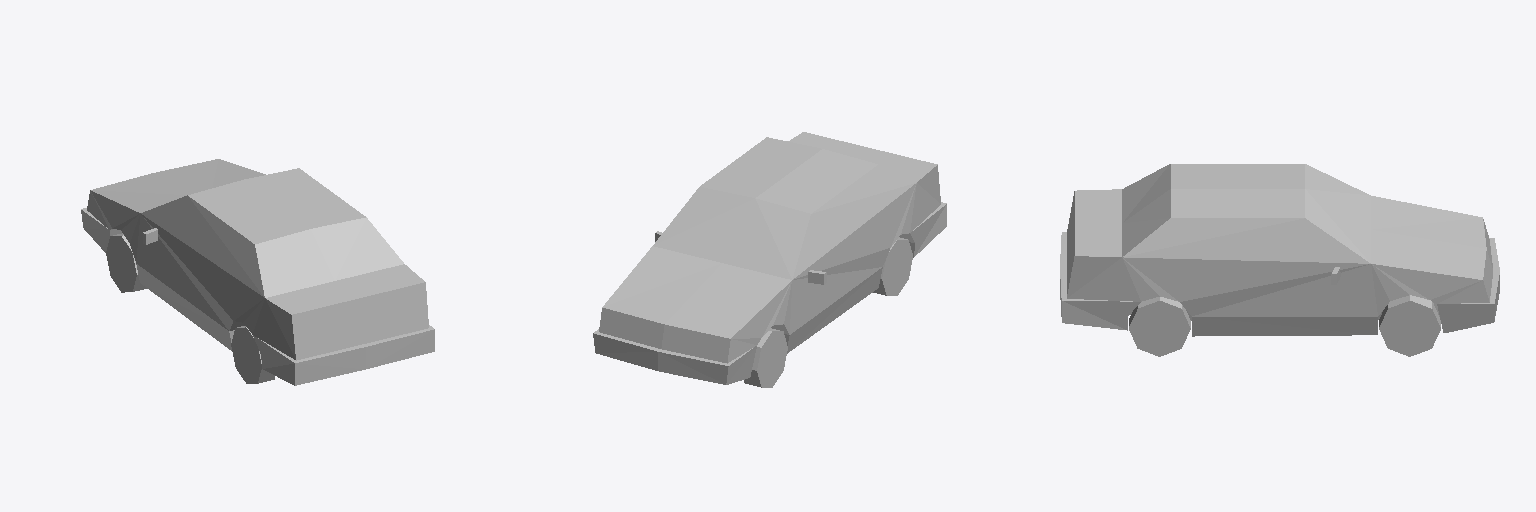
The picture shows the model from 3 angles: view 1: azimuth 30°, elevation 25°; view 2: azimuth 150°, elevation 25°; view 3: azimuth 270°, elevation 25°; orthographic projection.
Parts seen in each view (by area): view 1: Car2; view 2: Car2; view 3: Car2.
Boxes of the visible parts, x1,y1,x2,y2 form: Car2: [81, 159, 434, 385]; Car2: [593, 132, 946, 387]; Car2: [1060, 164, 1499, 356].
Bounding box in the file's own units: 1.58 × 1.2 × 3.56.